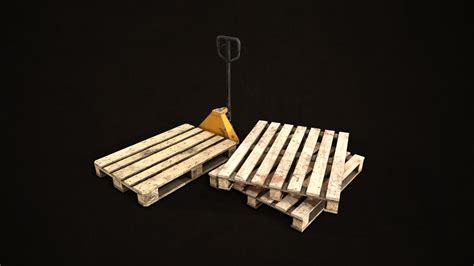Pallet Jack: (93, 34, 241, 207)
